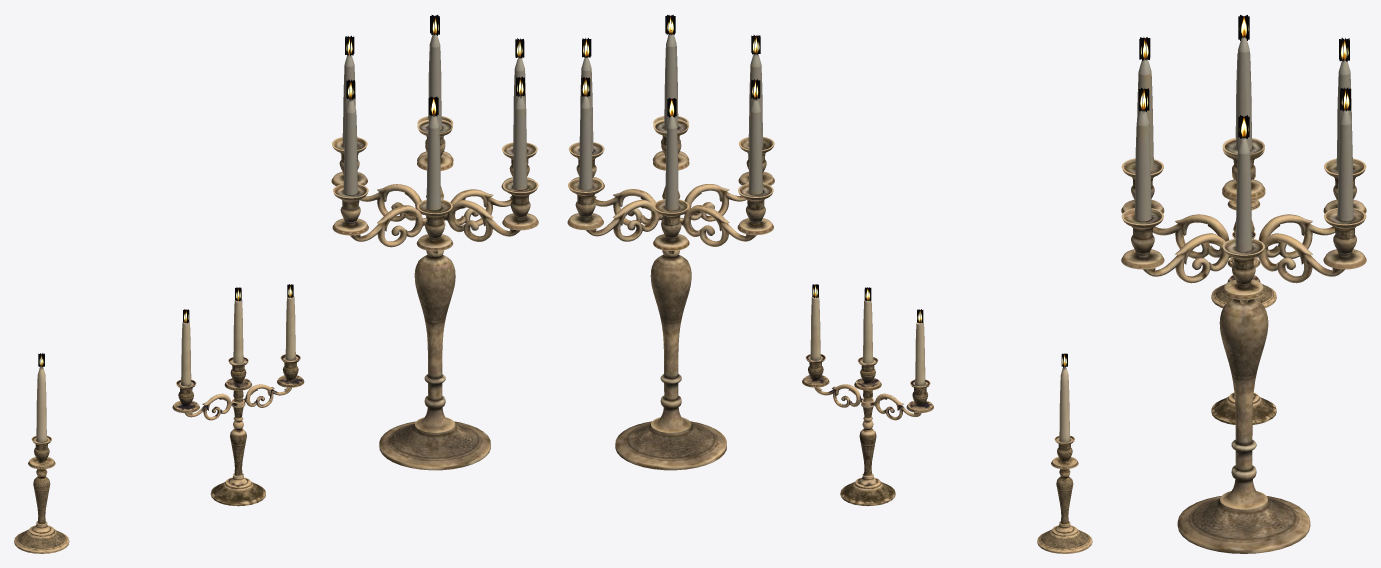
Rendered from candelabra.glb.
3 views of the same model, side by side, from view 1: azimuth 30°, elevation 25°; view 2: azimuth 150°, elevation 25°; view 3: azimuth 270°, elevation 25° (orthographic). The views are drawn at different scales.
Parts seen in each view (by area): view 1: brass_candleholder_03, brass_candleholder_02, brass_candleholder_01; view 2: brass_candleholder_03, brass_candleholder_02, brass_candleholder_01; view 3: brass_candleholder_03, brass_candleholder_02, brass_candleholder_01.
Part boxes in pixels (x1,y1,x2,y2): brass_candleholder_03: [331, 15, 538, 470]; brass_candleholder_02: [172, 284, 304, 506]; brass_candleholder_01: [14, 353, 69, 553]; brass_candleholder_03: [567, 14, 774, 470]; brass_candleholder_02: [802, 284, 933, 505]; brass_candleholder_01: [1037, 353, 1092, 553]; brass_candleholder_03: [1121, 15, 1366, 553]; brass_candleholder_02: [1211, 232, 1276, 424]; brass_candleholder_01: [1211, 174, 1276, 307].
Bounding box in the file's own units: 1.05 × 0.8353 × 0.3647.
5 materials, 5 textured.
